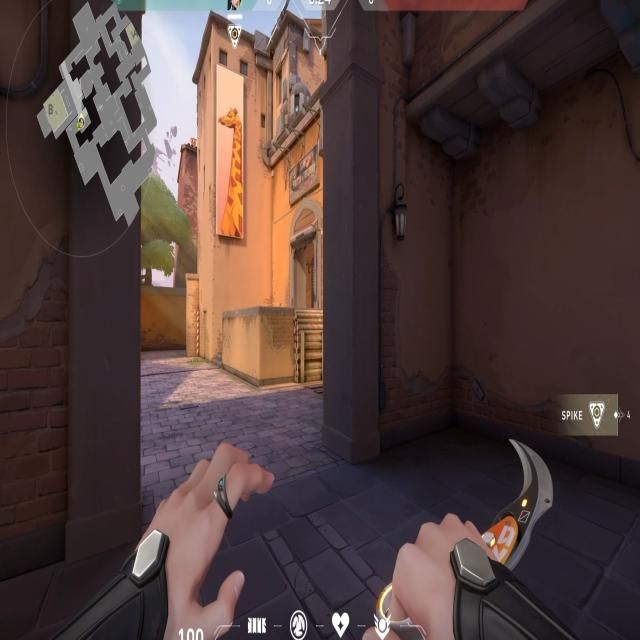B_Cubby: (256, 302, 326, 391)
